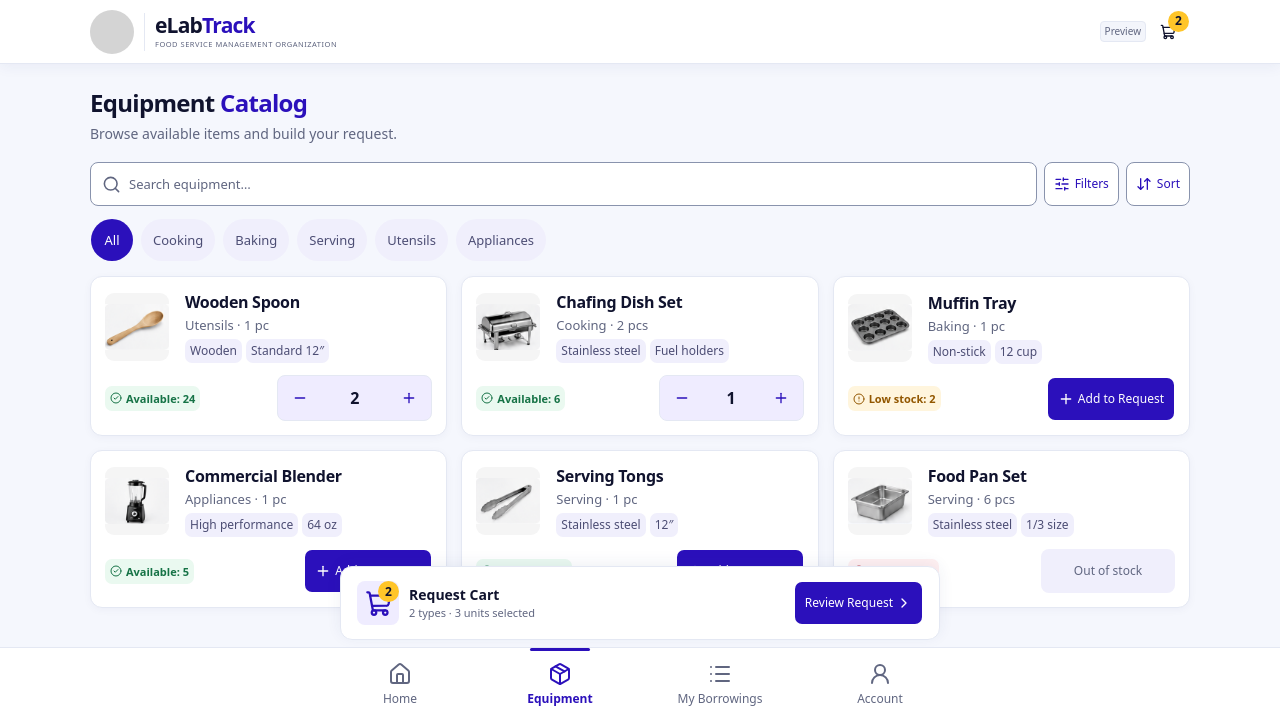
Phase 3B visual boundaries › filters catalog fixtures, preserves local selection, and offers no submit or payment action
This screenshot has width=1280, height=720.
Type "nonexistent" into the search field labelled "Search equipment" at (563, 184), box [90,162,1037,206]
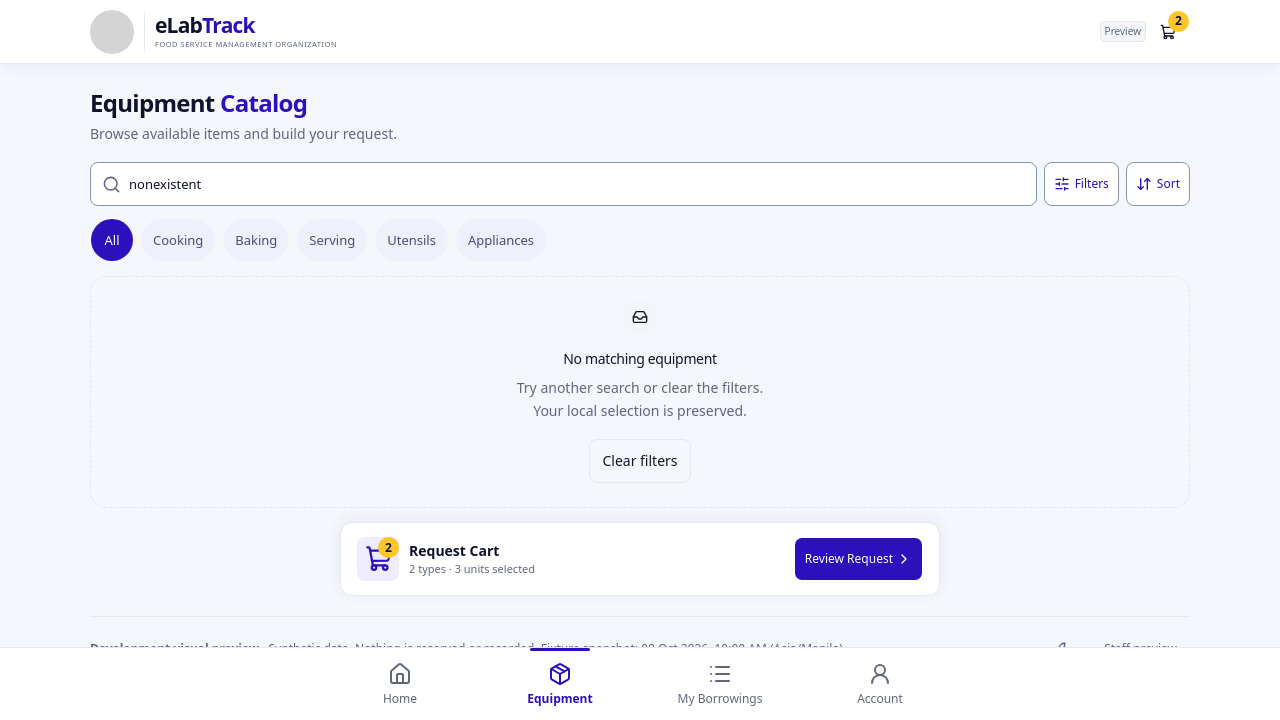
Expected: the text "2 types · 3 units selected" is shown, [409,560,535,576]
Result: the text "No matching equipment" is shown at [563,349,717,369]
Click the button "Clear filters" at (640, 460), box [589,438,690,482]
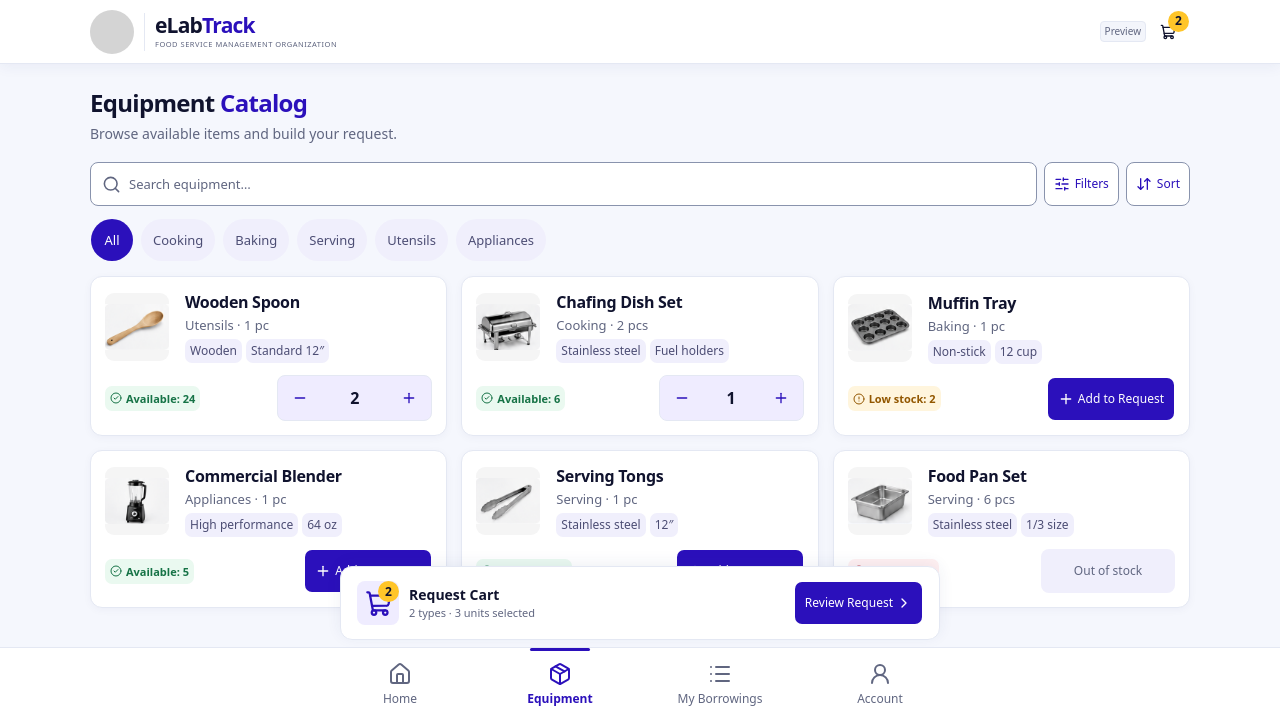
Result: the heading "Wooden Spoon" is shown at [185,291,300,313]
Result: the button "Out of stock" is disabled at [1041,549,1175,593]
Click the button "Review Request" at (858, 603), box [794,581,923,625]
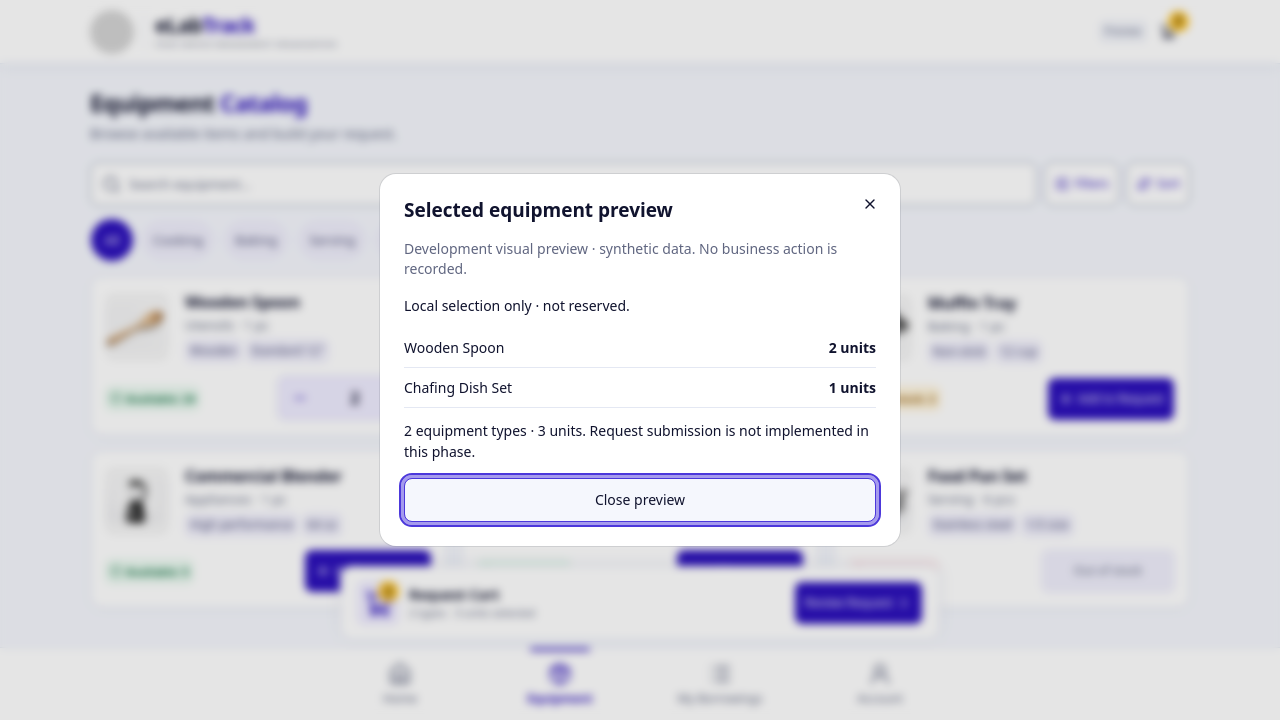
Result: the text "Local selection only · not reserved." is shown at [404,296,630,315]
